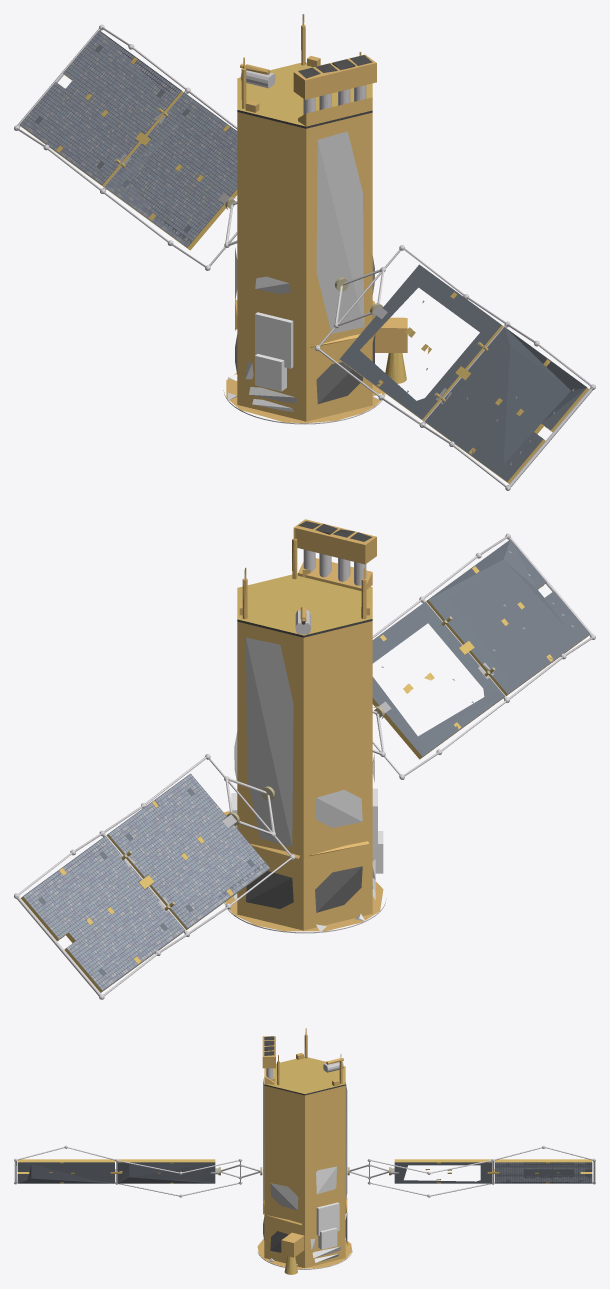
Rendered from oco2.glb.
The picture shows the model from 3 angles, top to bottom: view 1: azimuth 30°, elevation 25°; view 2: azimuth 150°, elevation 25°; view 3: azimuth 270°, elevation 25°; orthographic projection. The views are drawn at different scales.
Parts seen in each view (by area): view 1: Layer_0; view 2: Layer_0; view 3: Layer_0.
Boxes of the visible parts, x1,y1,x2,y2 form: Layer_0: (14,14,595,490); Layer_0: (14,519,595,999); Layer_0: (14,1028,595,1274).
Size of the model in its own units: 7.63 by 15.41 by 39.87.
